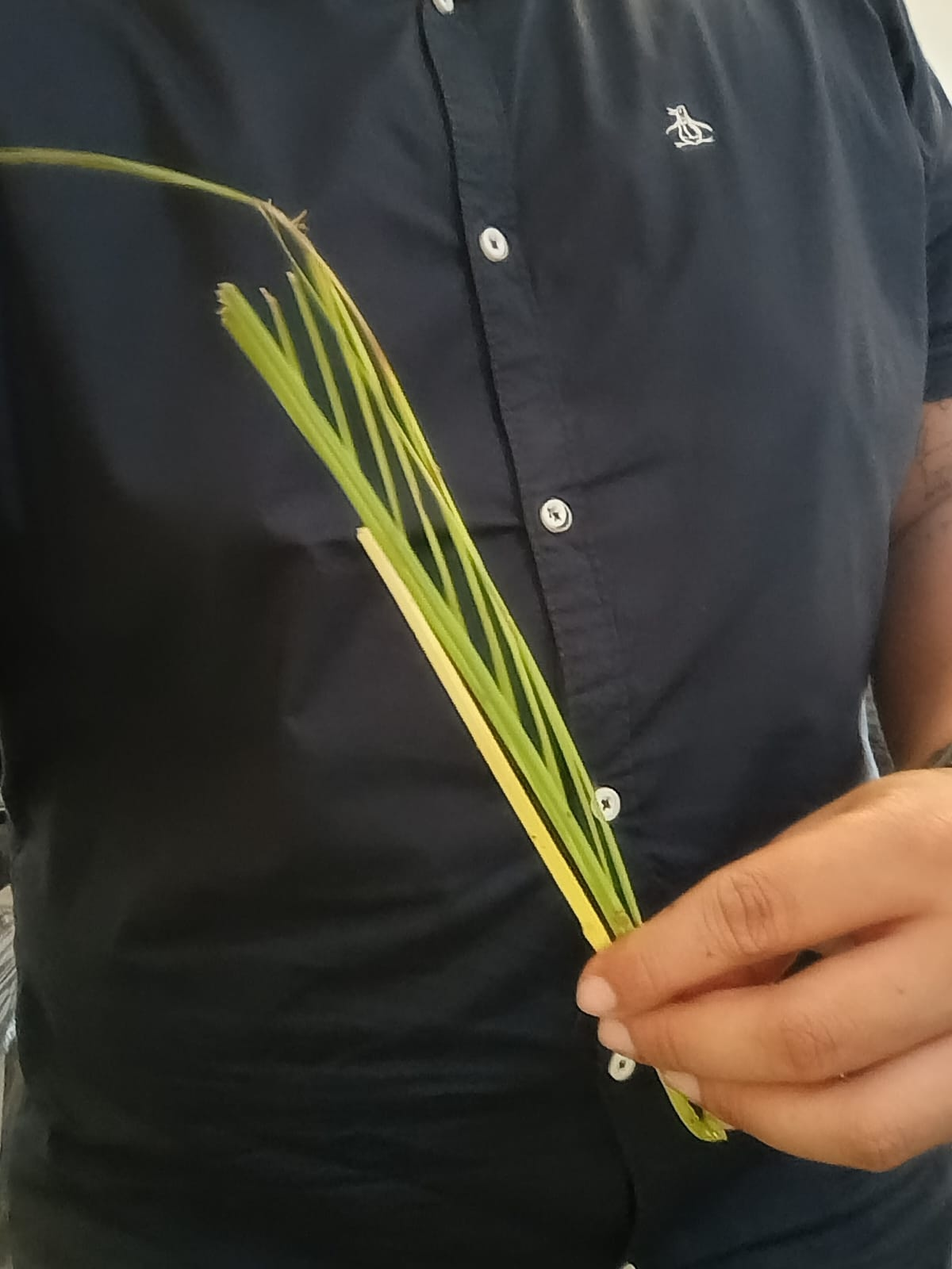Organico: (0, 143, 731, 1147)
